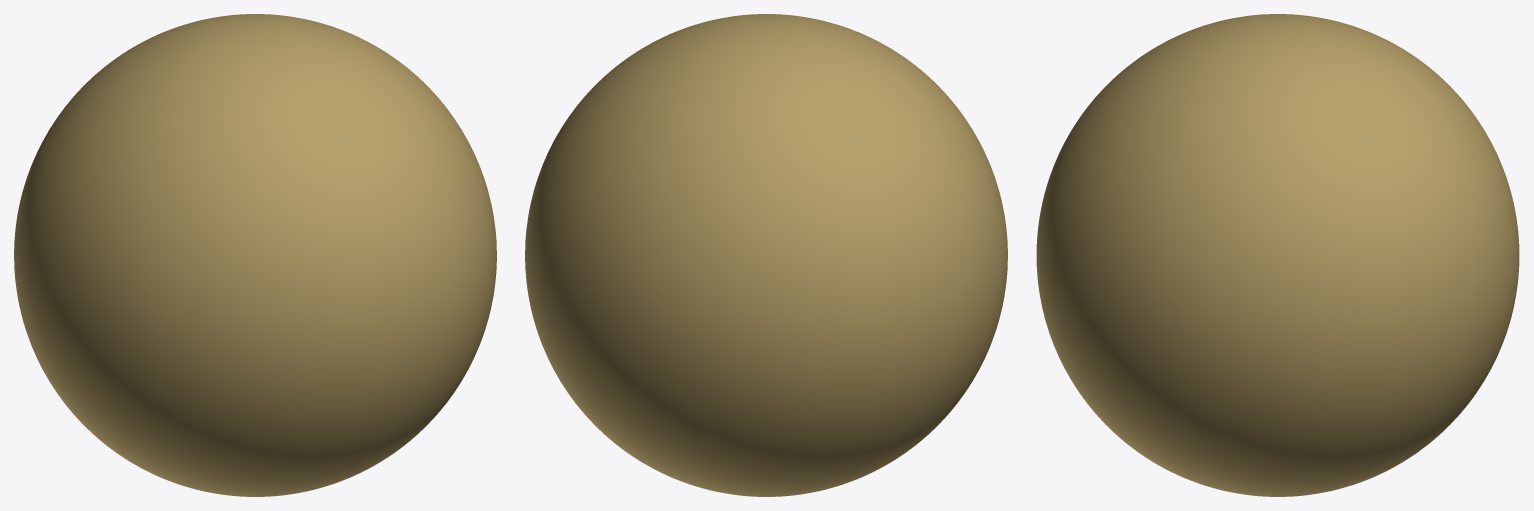
The model's file is Sun.glb.
The picture shows the model from 3 angles, left to right: view 1: azimuth 30°, elevation 25°; view 2: azimuth 150°, elevation 25°; view 3: azimuth 270°, elevation 25°; orthographic projection.
Visible parts, largest first — view 1: Sphere; view 2: Sphere; view 3: Sphere.
Boxes of the visible parts, x1,y1,x2,y2 form: Sphere: (14,14,496,496); Sphere: (525,14,1007,496); Sphere: (1036,14,1519,496).
Size of what is drawn, in the model's own units: 4.94 by 4.94 by 4.94.
